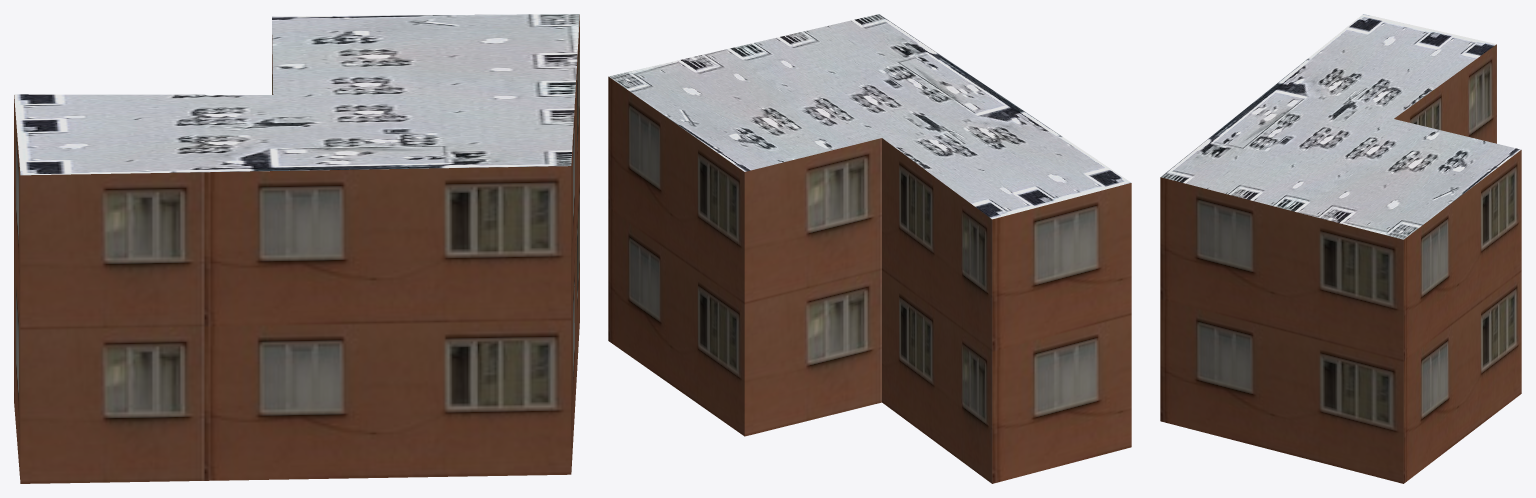
The model's file is ResTex__1132.fbx.
3 renders of one model, left to right at view 1: azimuth 30°, elevation 25°; view 2: azimuth 150°, elevation 25°; view 3: azimuth 270°, elevation 25°, orthographic. The views are drawn at different scales.
Parts seen in each view (by area): view 1: CityEngineMaterial_20_m, CityEngineMaterial_8_m; view 2: CityEngineMaterial_20_m, CityEngineMaterial_8_m; view 3: CityEngineMaterial_20_m, CityEngineMaterial_8_m.
Part boxes in pixels (box(x1,y1,x2,y2)): CityEngineMaterial_20_m: box(14, 15, 579, 483); CityEngineMaterial_8_m: box(14, 14, 579, 175); CityEngineMaterial_20_m: box(608, 76, 1131, 483); CityEngineMaterial_8_m: box(609, 14, 1131, 219); CityEngineMaterial_20_m: box(1160, 44, 1521, 483); CityEngineMaterial_8_m: box(1160, 14, 1520, 239).
Size of the model in its own units: 11.9 by 6 by 8.04.
2 materials, 2 textured.
